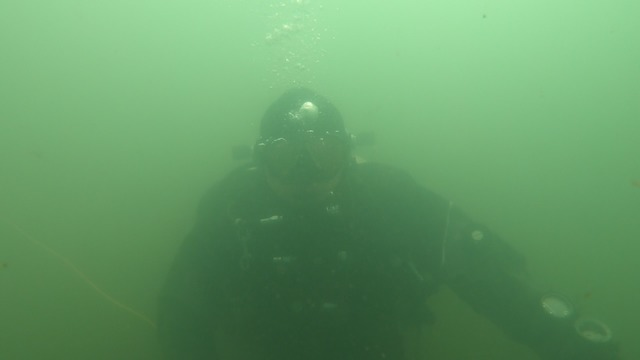Diver: (129, 74, 628, 355)
Head: (248, 82, 365, 237)
